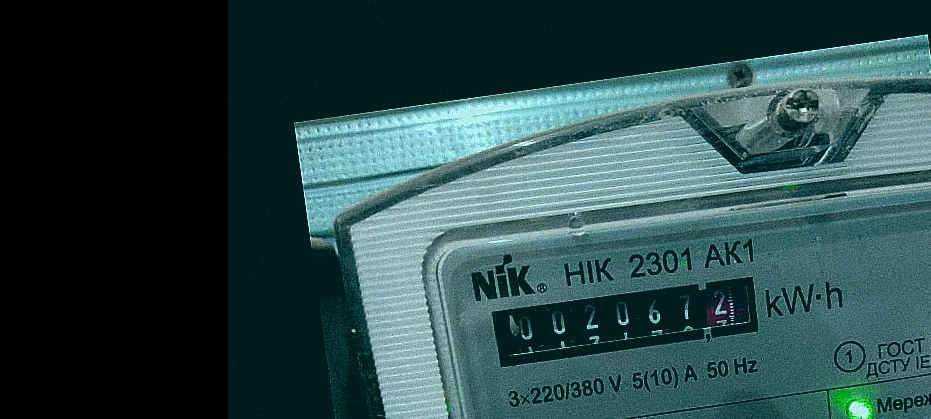0: (515, 312, 537, 343), (548, 305, 569, 336), (611, 296, 632, 327)
2: (709, 286, 731, 317), (581, 301, 602, 332)
6: (644, 295, 666, 326)
7: (677, 291, 697, 322)
screen: (477, 260, 777, 382)
